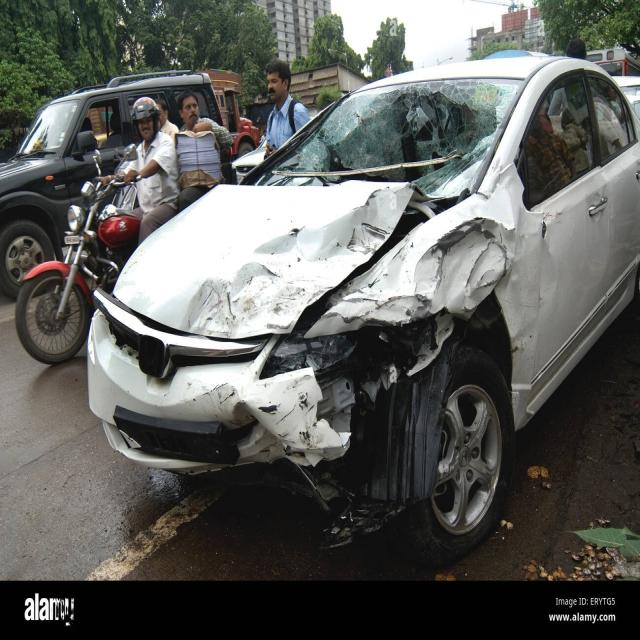accident: (88, 56, 640, 566)
car: (0, 71, 222, 298)
motorcycle: (16, 96, 180, 364)
